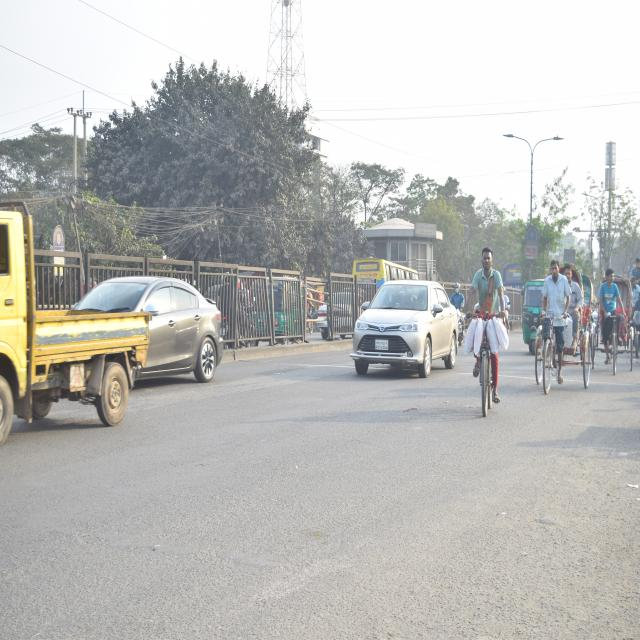car: (83, 263, 224, 378), (352, 280, 457, 380)
motorbike: (455, 304, 468, 351)
pickup-van: (0, 205, 149, 447)
